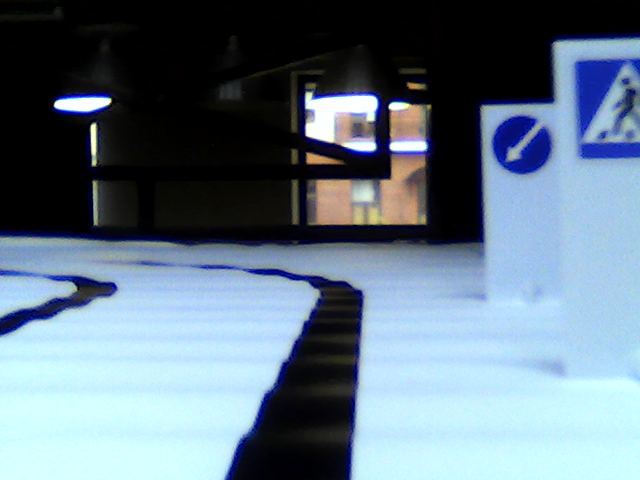pesh: (576, 55, 640, 164)
prep: (490, 112, 553, 177)
